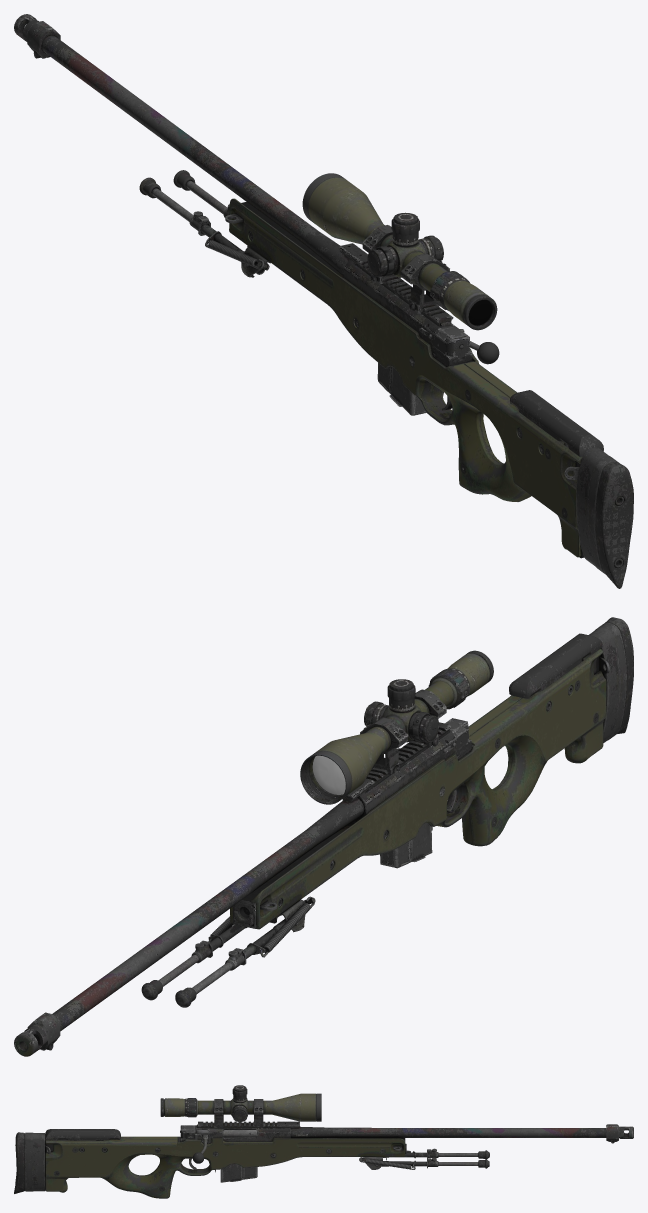
File: awp_r.glb
3 views of the same model, one above another, from view 1: azimuth 30°, elevation 25°; view 2: azimuth 150°, elevation 25°; view 3: azimuth 270°, elevation 25° (orthographic). The views are drawn at different scales.
Visible parts, largest first — view 1: v_awp_R; view 2: v_awp_R; view 3: v_awp_R.
Boxes of the visible parts, x1,y1,x2,y2 form: v_awp_R: (14, 14, 633, 588); v_awp_R: (14, 617, 633, 1056); v_awp_R: (14, 1085, 633, 1198).
Bounding box in the file's own units: 0.1109 × 0.2669 × 1.36.
2 materials, 2 textured.
